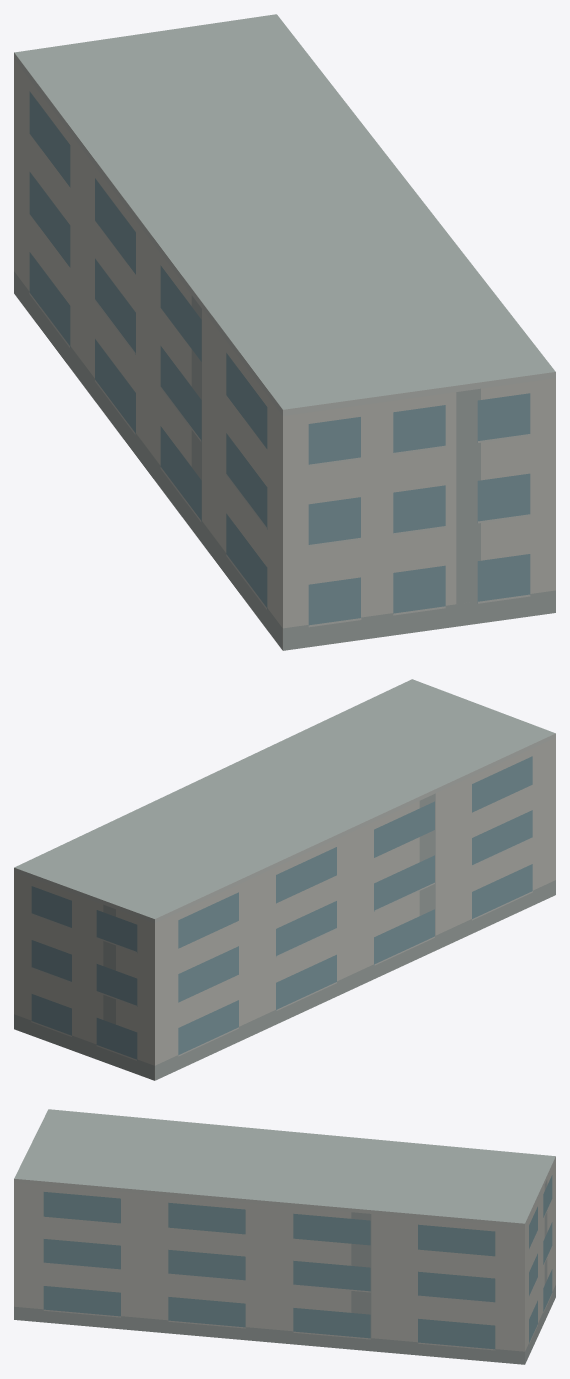
The model's file is survey-upis-32585826.glb.
The picture shows the model from 3 angles, top to bottom: view 1: azimuth 30°, elevation 25°; view 2: azimuth 150°, elevation 25°; view 3: azimuth 270°, elevation 25°; orthographic projection. The views are drawn at different scales.
Parts seen in each view (by area): view 1: survey-upis-32585826.tmp; view 2: survey-upis-32585826.tmp; view 3: survey-upis-32585826.tmp.
Part boxes in pixels (x1,y1,x2,y2): survey-upis-32585826.tmp: [14, 14, 555, 650]; survey-upis-32585826.tmp: [14, 679, 555, 1080]; survey-upis-32585826.tmp: [14, 1109, 555, 1364].
Bounding box in the file's own units: 15.94 × 9.15 × 31.86.
